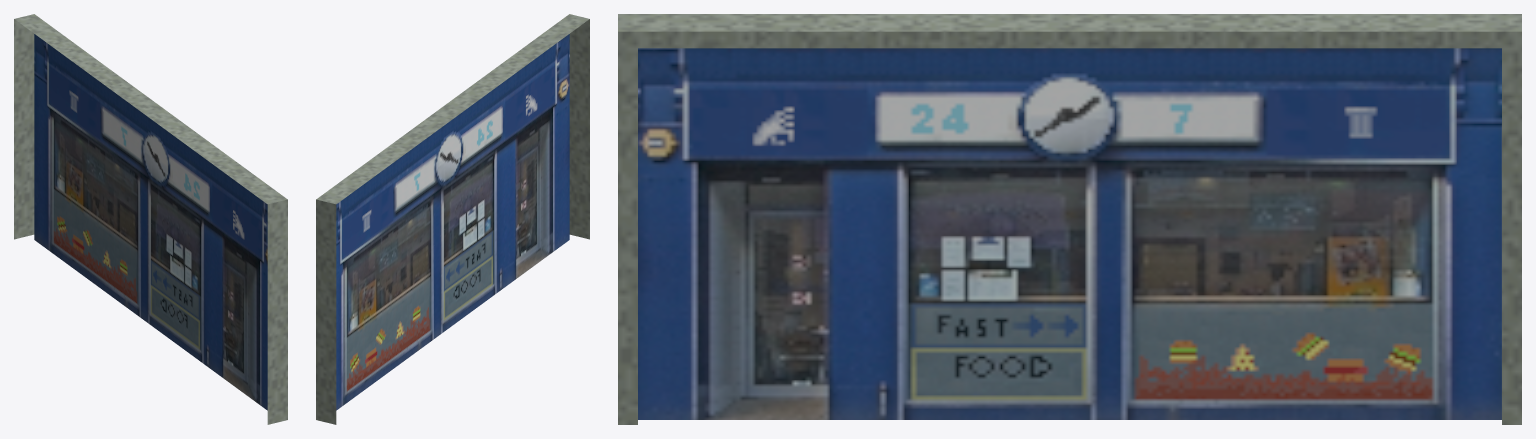
File: BGN_STORE FRONT 3.fbx
3 renders of one model, left to right at view 1: azimuth 30°, elevation 25°; view 2: azimuth 150°, elevation 25°; view 3: azimuth 270°, elevation 25°, orthographic. The views are drawn at different scales.
Visible parts, largest first — view 1: BGN_STORE_FRONT_3; view 2: BGN_STORE_FRONT_3; view 3: BGN_STORE_FRONT_3.
Boxes of the visible parts, x1=… form: BGN_STORE_FRONT_3: x1=14, y1=14, x2=287, y2=424; BGN_STORE_FRONT_3: x1=316, y1=14, x2=589, y2=424; BGN_STORE_FRONT_3: x1=618, y1=14, x2=1521, y2=424.
Size of the model in its own units: 42.3 by 439 by 915.
Materials: 2 (2 with a texture image).
